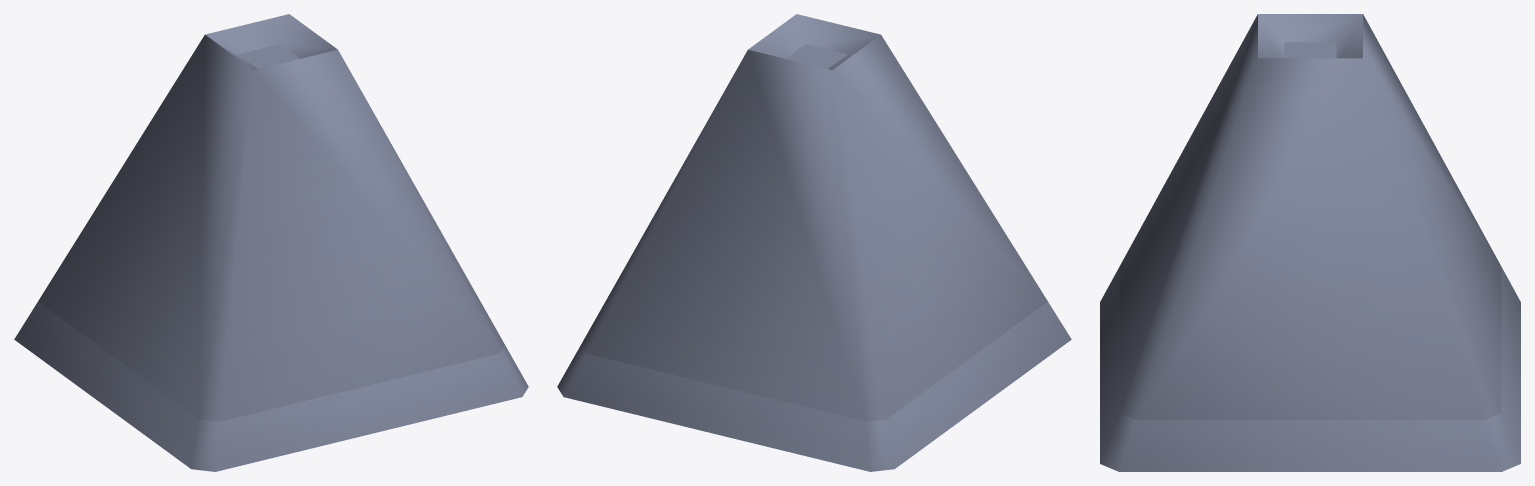
File: roof-high-point.glb
The picture shows the model from 3 angles, left to right: view 1: azimuth 30°, elevation 25°; view 2: azimuth 150°, elevation 25°; view 3: azimuth 270°, elevation 25°; orthographic projection. The views are drawn at different scales.
Parts seen in each view (by area): view 1: roof-high-point; view 2: roof-high-point; view 3: roof-high-point.
Boxes of the visible parts, x1,y1,x2,y2 form: roof-high-point: (14,14,528,471); roof-high-point: (557,14,1071,471); roof-high-point: (1100,14,1520,471).
Size of the model in its own units: 1.1 by 1 by 1.1.
1 material, 1 textured.
